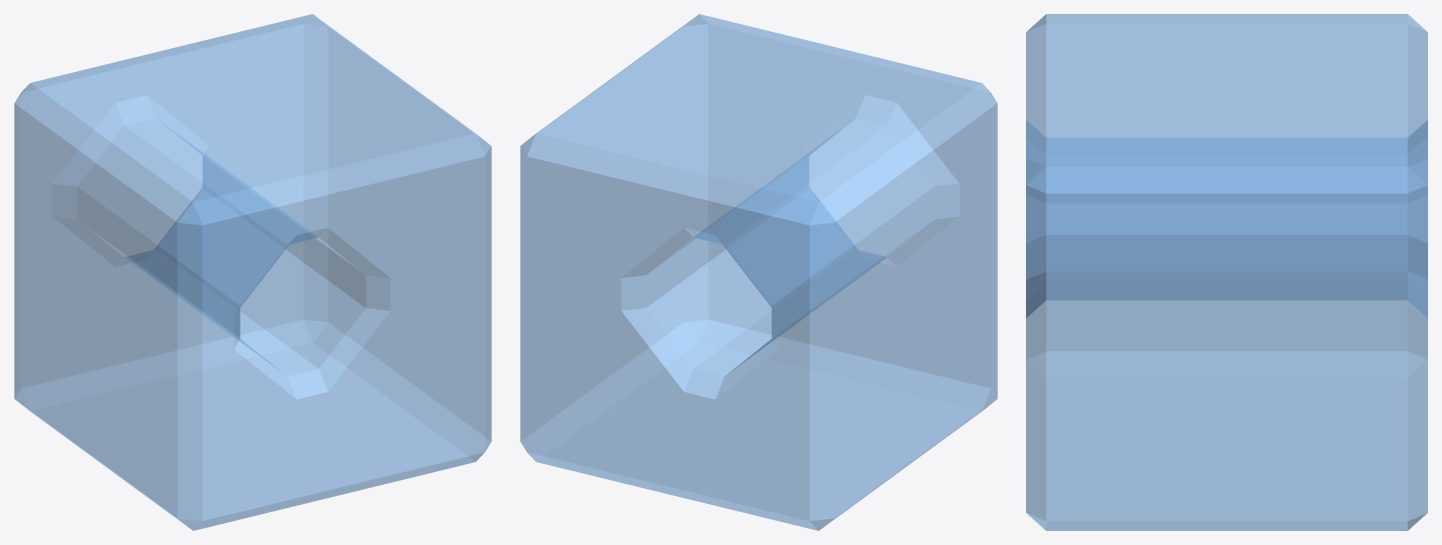
The model's file is semiconductor_solid_target.glb.
3 views of the same model, side by side, from view 1: azimuth 30°, elevation 25°; view 2: azimuth 150°, elevation 25°; view 3: azimuth 270°, elevation 25° (orthographic). The views are drawn at different scales.
Parts seen in each view (by area): view 1: SEMICONDUCTOR_SOLID_TARGET; view 2: SEMICONDUCTOR_SOLID_TARGET; view 3: SEMICONDUCTOR_SOLID_TARGET.
Boxes of the visible parts, box(x1,y1,x2,y2) form: SEMICONDUCTOR_SOLID_TARGET: box(14, 14, 491, 530); SEMICONDUCTOR_SOLID_TARGET: box(520, 14, 997, 530); SEMICONDUCTOR_SOLID_TARGET: box(1026, 14, 1427, 530).
Bounding box in the file's own units: 10 × 10 × 10.
